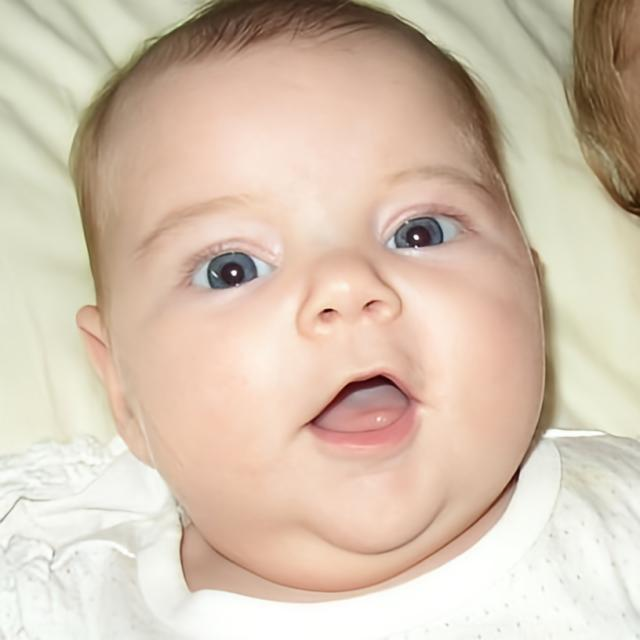surprise: (73, 0, 547, 592)
